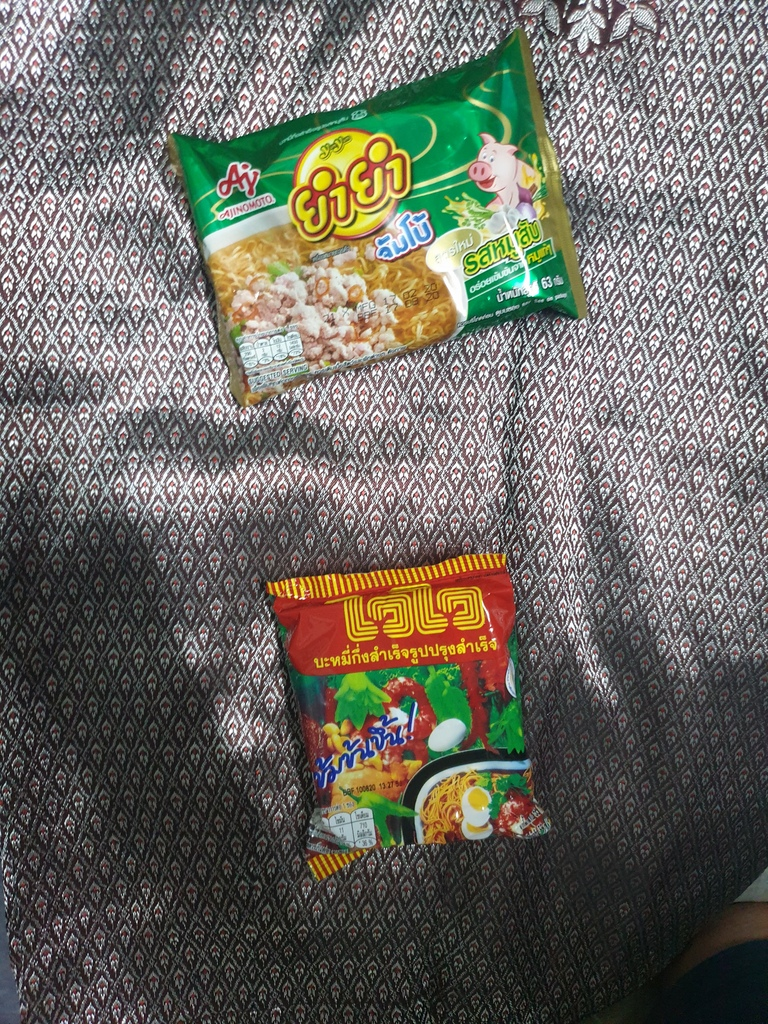waiwai: (264, 559, 566, 860)
yumyum: (161, 44, 583, 385)
